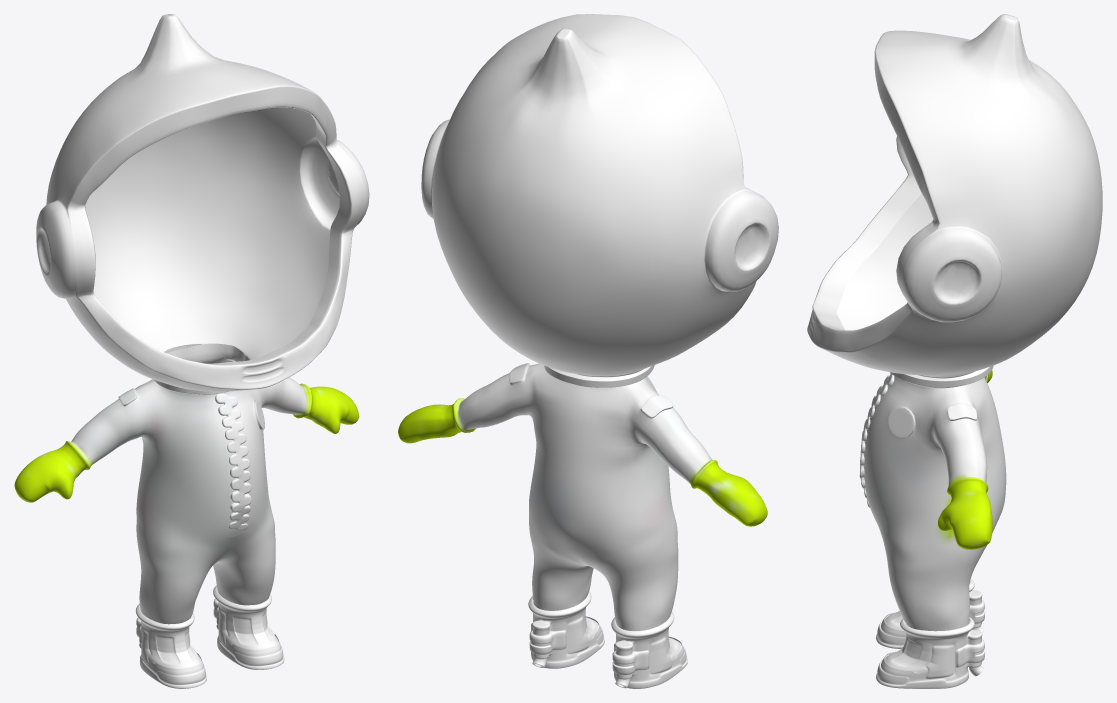
The picture shows the model from 3 angles, left to right: view 1: azimuth 30°, elevation 25°; view 2: azimuth 150°, elevation 25°; view 3: azimuth 270°, elevation 25°; orthographic projection. The views are drawn at different scales.
Visible parts, largest first — view 1: test; view 2: test; view 3: test.
Part boxes in pixels (x1=…): test: x1=14, y1=14, x2=369, y2=688; test: x1=398, y1=14, x2=778, y2=688; test: x1=807, y1=14, x2=1102, y2=688.
Bounding box in the file's own units: 17.73 × 31.01 × 12.93.
